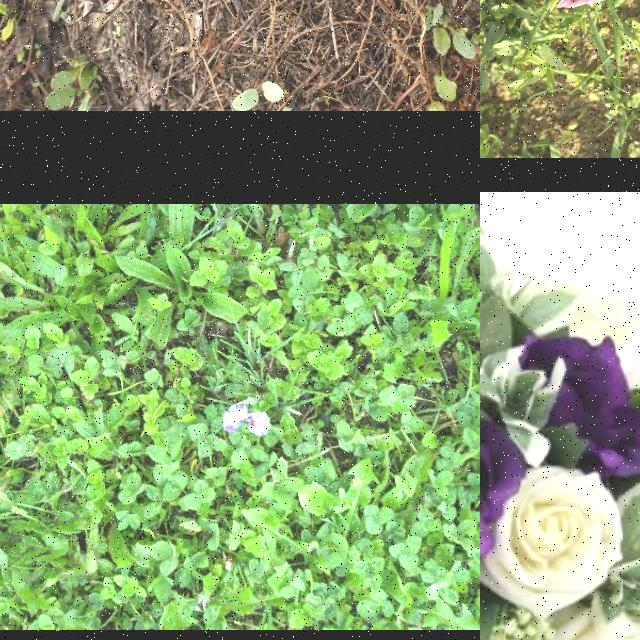flower: (222, 404, 248, 434), (248, 412, 272, 436)
